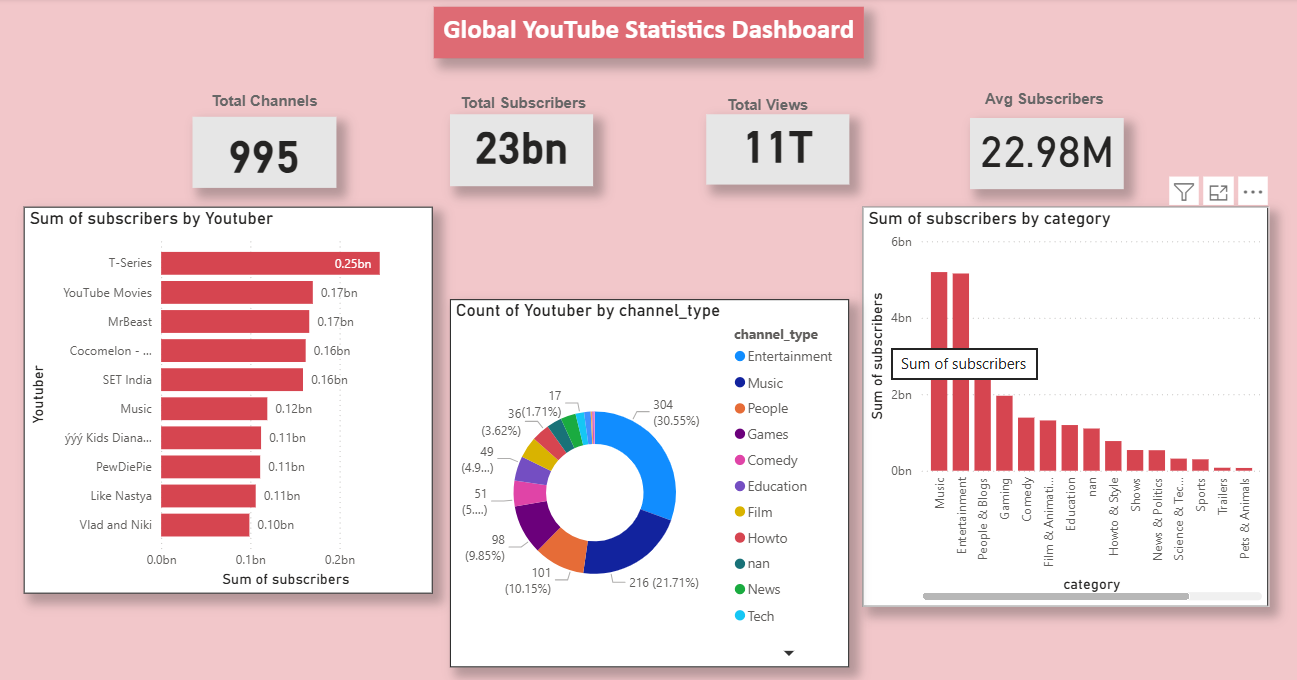

What the dashboard file says about the page in this screenshot:
{"tool":"powerbi","page":{"name":"Overview Dashboard","canvas":[1280,720],"ordinal":0},"visuals":[{"type":"card","fields":{"Values":["Global YouTube Statistics.Total Channels"]},"box":[193.2,116.2,140.6,69.7],"z":0},{"type":"textbox","box":[193.2,86.8,140.6,28.1],"z":1000},{"type":"card","fields":{"Values":["Global YouTube Statistics.Total Subscribers"]},"box":[445.7,114.3,140,70],"z":2000},{"type":"textbox","box":[447.1,88.6,138.6,30],"z":3000},{"type":"card","fields":{"Values":["Global YouTube Statistics.Total Views"]},"box":[695.7,114.3,140,68.6],"z":4000},{"type":"textbox","box":[695.7,90,120,30],"z":5000},{"type":"card","fields":{"Values":["Global YouTube Statistics.Avg Subscribers"]},"box":[953.8,117.4,150.4,69.7],"z":6000},{"type":"textbox","box":[953.8,84.4,145.5,30.6],"z":7000},{"type":"textbox","box":[429.2,8.6,420.7,50.1],"z":8000},{"type":"clusteredBarChart","fields":{"Category":["Global YouTube Statistics.Youtuber"],"Y":["Global YouTube Statistics.subscribers"]},"box":[28.6,204.3,400,378.6],"z":9000},{"type":"clusteredColumnChart","fields":{"Category":["Global YouTube Statistics.category"],"Y":["Global YouTube Statistics.subscribers"]},"box":[848.6,204.3,397.1,391.4],"z":10000},{"type":"donutChart","fields":{"Category":["Global YouTube Statistics.channel_type"],"Y":["Global YouTube Statistics.Youtuber"]},"box":[445.7,294.3,390,360],"z":13000}]}

Visuals, with their boxes on the page's 1280x720 design canvas (x1, y1, x2, y2). These are canvas units, not pixel positions in the 1297x680 screenshot, which may show the page scaled, cropped or inside an application window:
card - Global YouTube Statistics.Total Channels: 193, 116, 334, 186
textbox: 193, 87, 334, 115
card - Global YouTube Statistics.Total Subscribers: 446, 114, 586, 184
textbox: 447, 89, 586, 119
card - Global YouTube Statistics.Total Views: 696, 114, 836, 183
textbox: 696, 90, 816, 120
card - Global YouTube Statistics.Avg Subscribers: 954, 117, 1104, 187
textbox: 954, 84, 1099, 115
textbox: 429, 9, 850, 59
clusteredBarChart - Global YouTube Statistics.Youtuber x Global YouTube Statistics.subscribers: 29, 204, 429, 583
clusteredColumnChart - Global YouTube Statistics.category x Global YouTube Statistics.subscribers: 849, 204, 1246, 596
donutChart - Global YouTube Statistics.channel_type x Global YouTube Statistics.Youtuber: 446, 294, 836, 654
